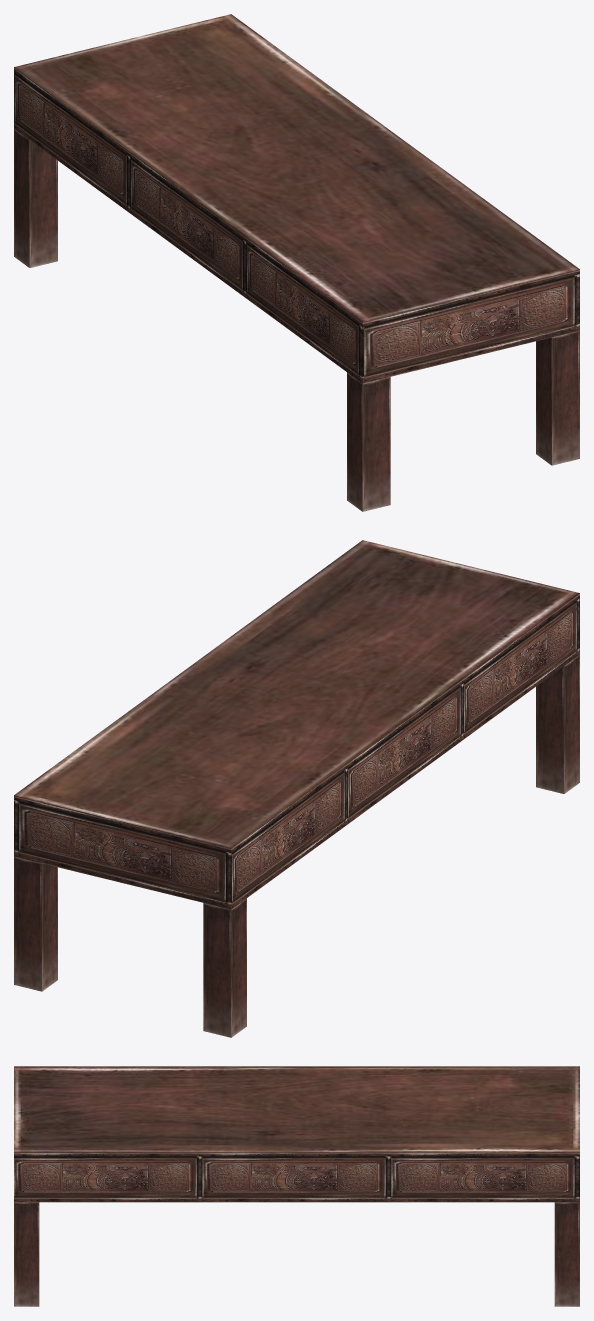
The picture shows the model from 3 angles, top to bottom: view 1: azimuth 30°, elevation 25°; view 2: azimuth 150°, elevation 25°; view 3: azimuth 270°, elevation 25°; orthographic projection. The views are drawn at different scales.
Parts seen in each view (by area): view 1: sj17; view 2: sj17; view 3: sj17.
Boxes of the visible parts, x1=… form: sj17: x1=14, y1=14, x2=579, y2=511; sj17: x1=14, y1=540, x2=579, y2=1037; sj17: x1=14, y1=1066, x2=579, y2=1306.
Size of the model in its own units: 17.48 by 14.56 by 48.54.
